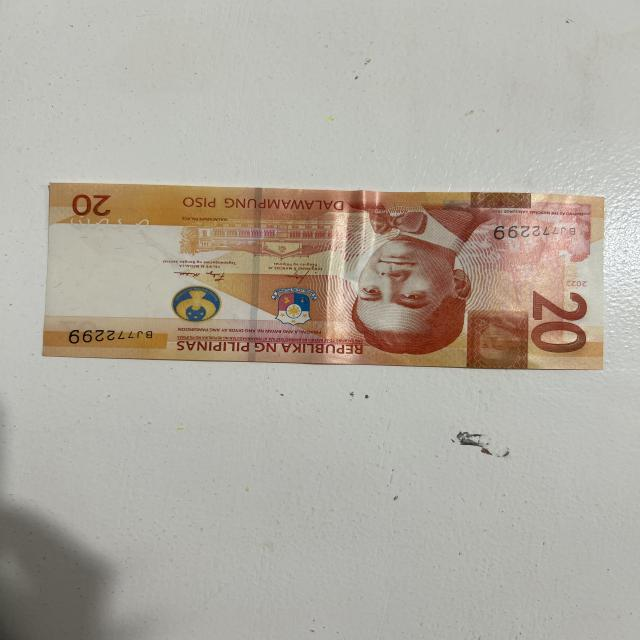concealed_value: (468, 310, 528, 369)
security_thread: (246, 189, 262, 363)
see_through_mark: (61, 216, 156, 232)
serial_number: (59, 325, 160, 347), (488, 224, 583, 245)
value: (527, 287, 589, 357)
watermark: (54, 231, 161, 311)
